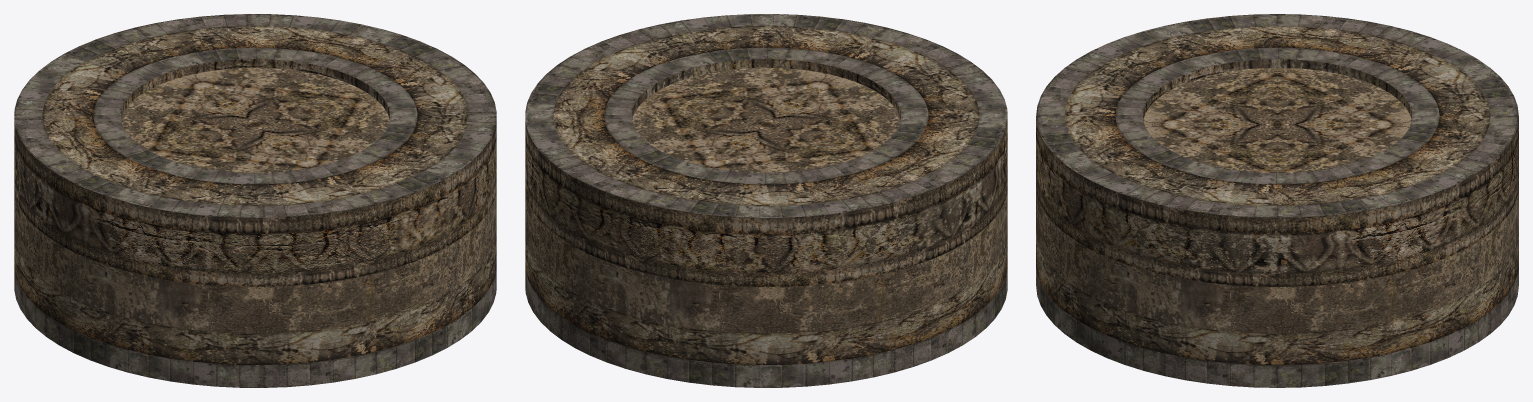
The model's file is materials_5_pillar_fat_14.fbx.
The picture shows the model from 3 angles, left to right: view 1: azimuth 30°, elevation 25°; view 2: azimuth 150°, elevation 25°; view 3: azimuth 270°, elevation 25°; orthographic projection.
Visible parts, largest first — view 1: materials_5_pillar_fat_14; view 2: materials_5_pillar_fat_14; view 3: materials_5_pillar_fat_14.
Boxes of the visible parts, box(x1,y1,x2,y2) form: materials_5_pillar_fat_14: box(14, 14, 496, 387); materials_5_pillar_fat_14: box(525, 14, 1007, 387); materials_5_pillar_fat_14: box(1036, 14, 1518, 387).
Bounding box in the file's own units: 135 × 52.32 × 135.
